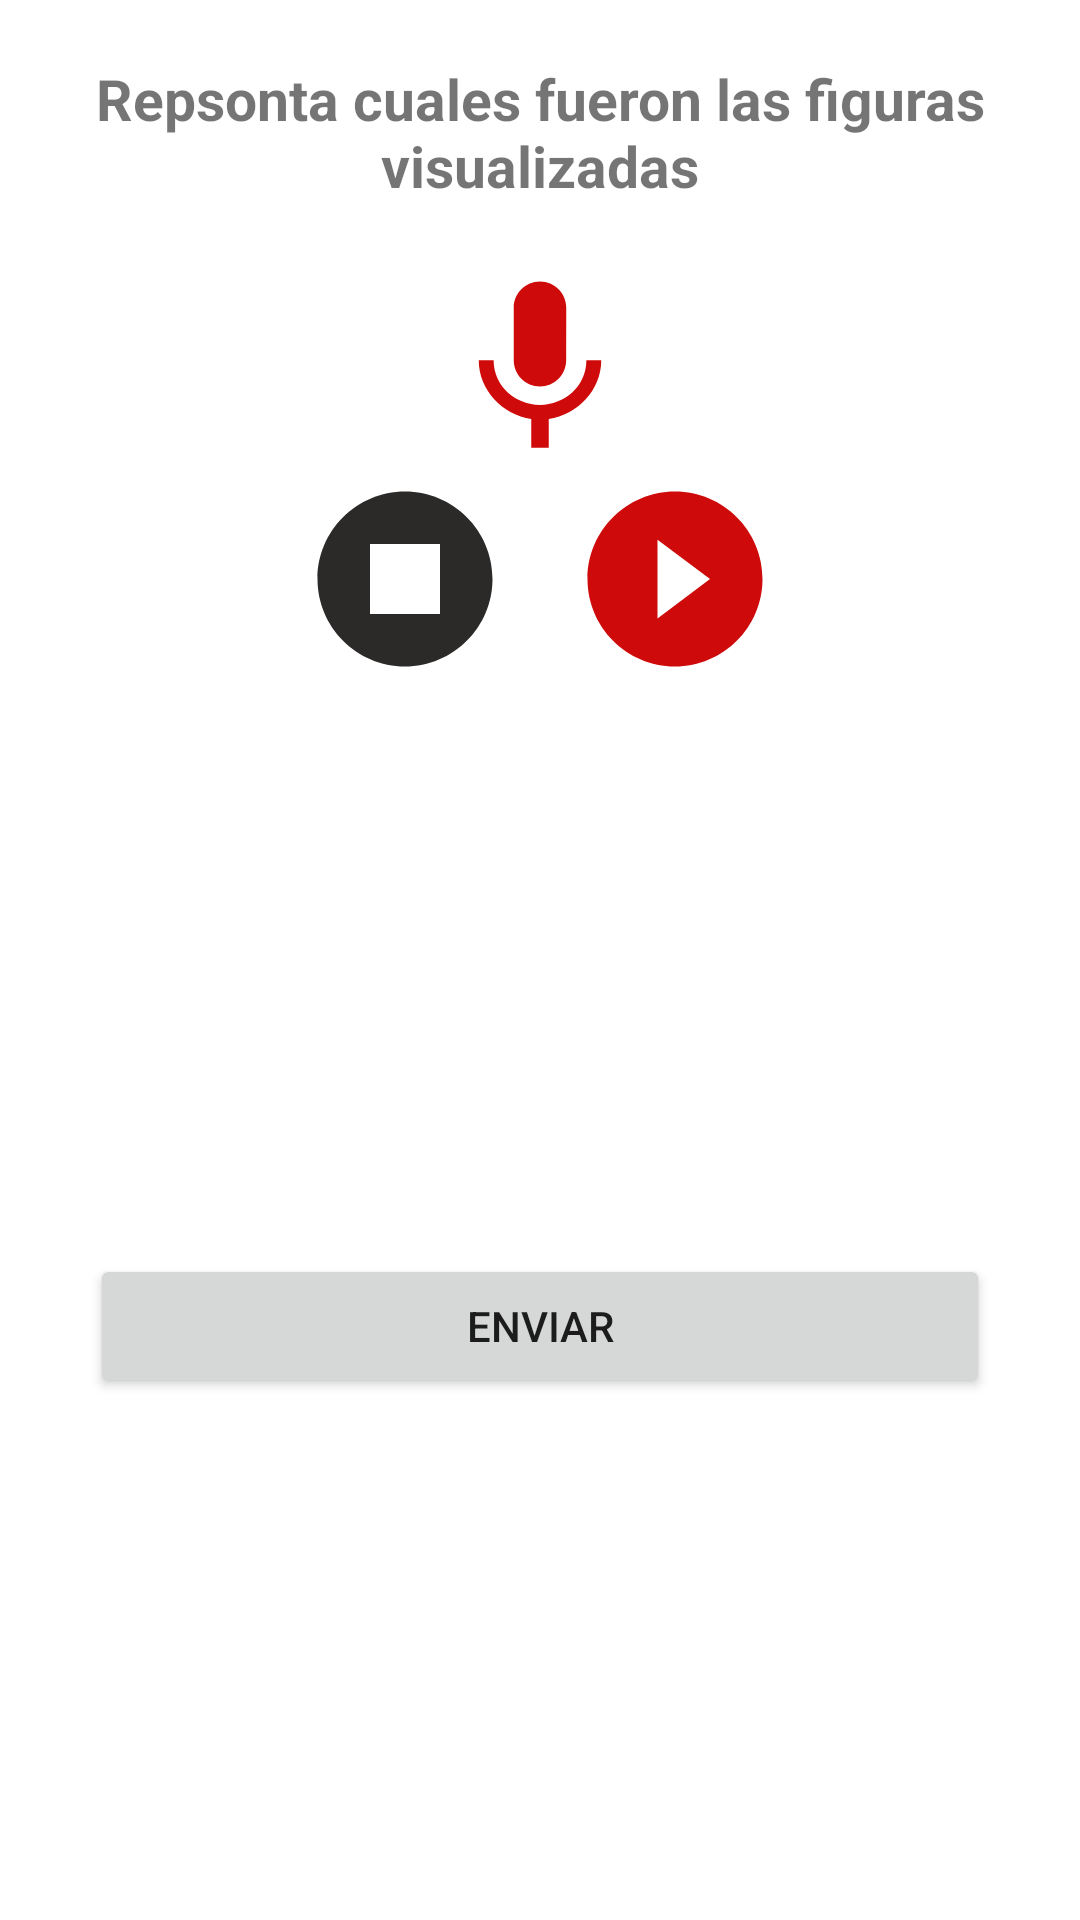

Icons on this 1080w x 1920h Android screen, each with the point to tap as (x=x, y=y):
grabar: (x=540, y=364)
paly: (x=675, y=579)
stop: (x=405, y=579)
